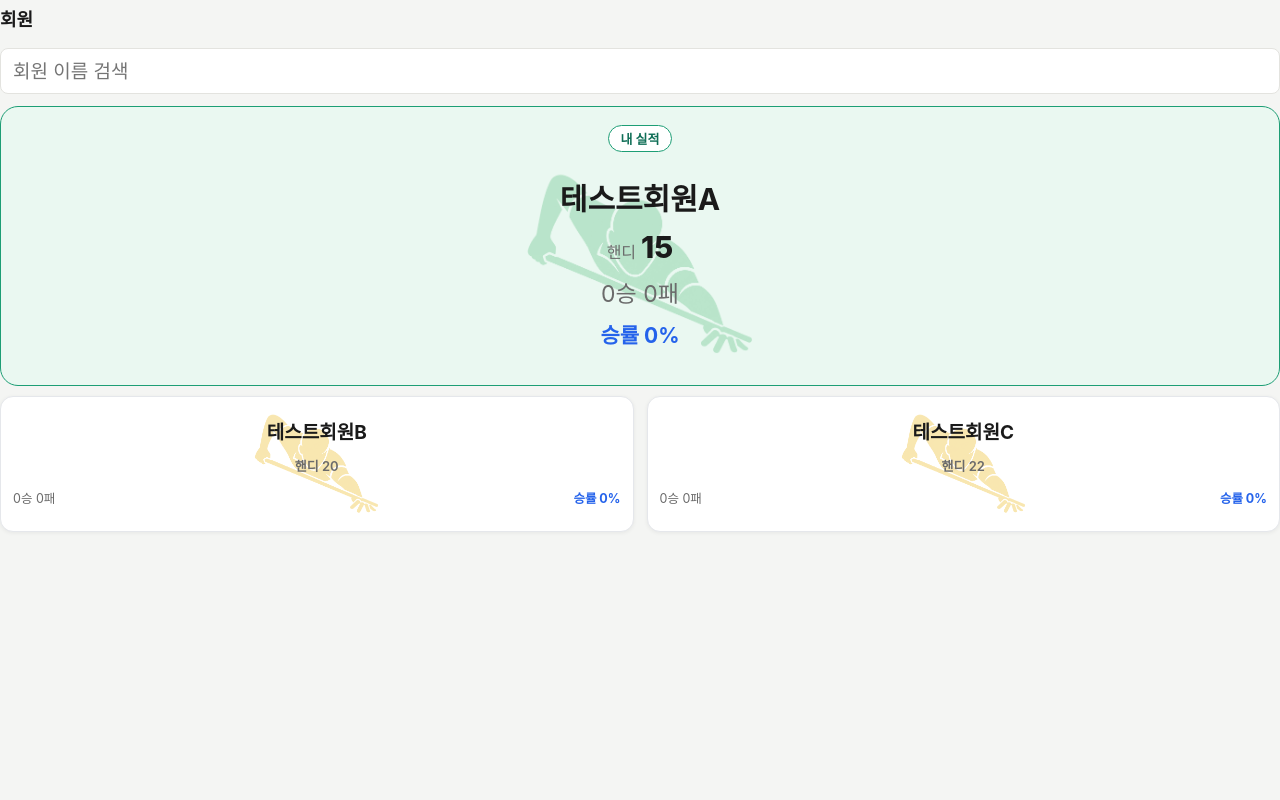
Scenario: 회원 상세 — 본인의 핸디 변경 이력(이번 수정) › 본인("내 실적" 카드)을 눌러도 다른 회원과 동일하게 핸디 변경 이력이 표시된다
Click the element with class "member-hero".
click(640, 369)  # box [0,106,1279,386]
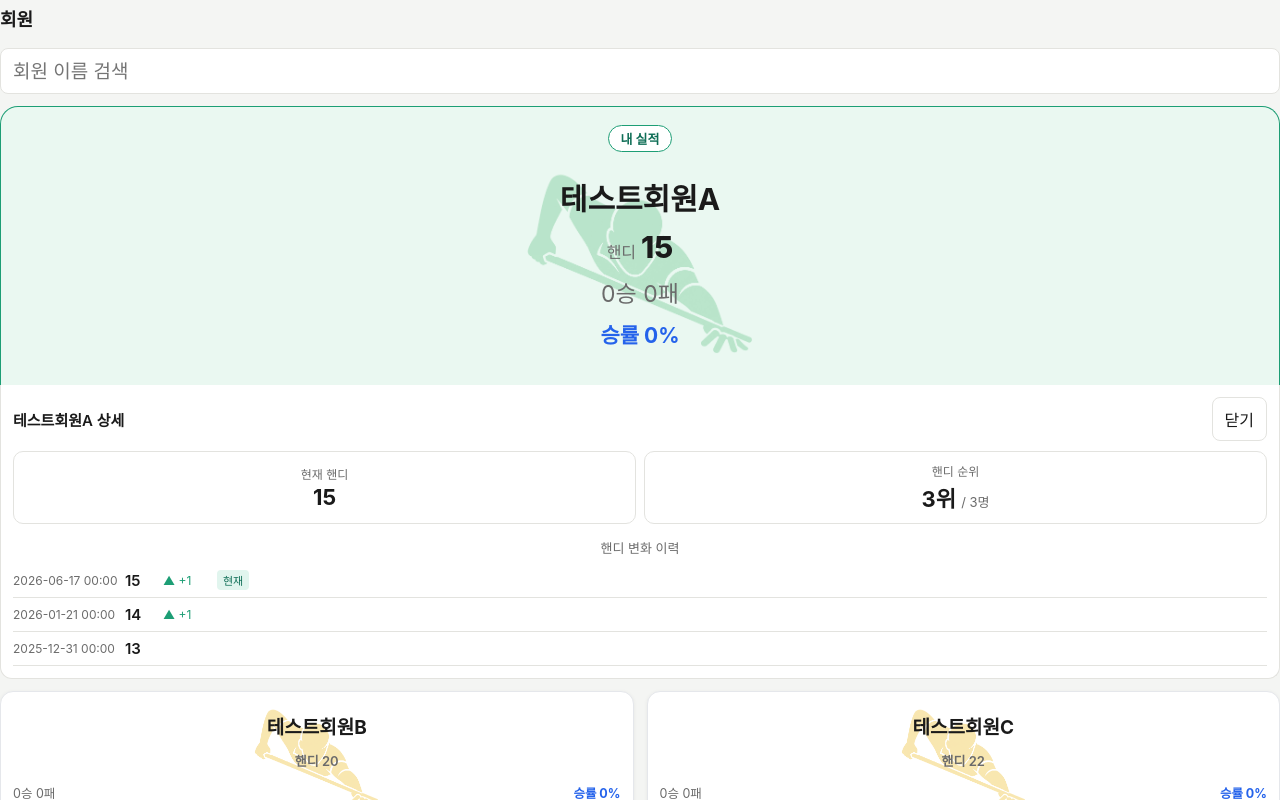
Expected: the text "핸디 변화 이력" is shown, [600,540,680,556]
Expected: the text "테스트회원A 상세" is shown, [13,408,124,430]
Expected: the text "현재 핸디" is shown, [301,465,348,482]
